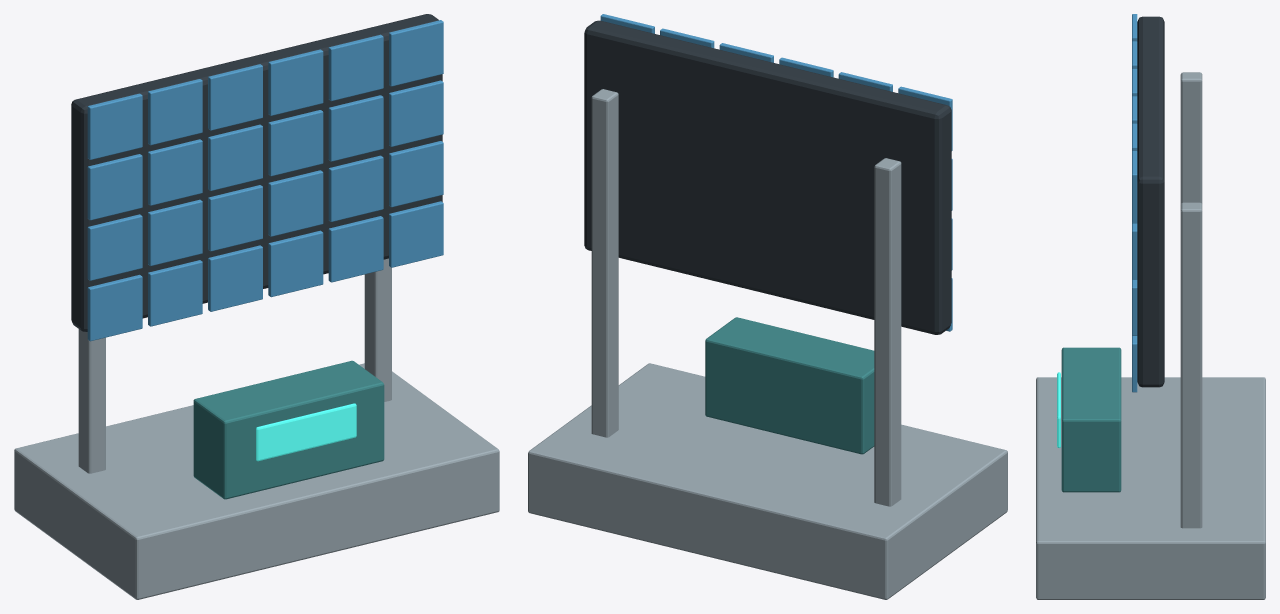
File: solar-rack.glb
The picture shows the model from 3 angles, left to right: view 1: azimuth 30°, elevation 25°; view 2: azimuth 150°, elevation 25°; view 3: azimuth 270°, elevation 25°; orthographic projection. The views are drawn at different scales.
Parts seen in each view (by area): view 1: Rack base, Panel backing, Controller, Post, Controller display, Post.001, Solar cell.001, Solar cell.015, Solar cell.012, Solar cell.013, Solar cell.017, Solar cell.018 (+18 smaller); view 2: Panel backing, Rack base, Controller, Post, Post.001; view 3: Rack base, Panel backing, Controller, Post.001, Post, Solar cell.023, Solar cell.022, Solar cell.020, Solar cell.021.
Part boxes in pixels (box(x1,y1,x2,y2)): Rack base: box(14, 363, 499, 599); Panel backing: box(71, 14, 442, 331); Controller: box(193, 360, 384, 499); Post: box(78, 329, 105, 473); Controller display: box(256, 403, 356, 461); Post.001: box(364, 258, 391, 401); Solar cell.001: box(87, 214, 142, 280); Solar cell.015: box(268, 49, 323, 115); Solar cell.012: box(268, 230, 323, 297); Solar cell.013: box(268, 170, 323, 236); Solar cell.017: box(328, 155, 383, 221); Solar cell.018: box(328, 95, 383, 161); Panel backing: box(584, 20, 951, 334); Rack base: box(528, 363, 1007, 599); Controller: box(705, 317, 874, 454); Post: box(874, 158, 901, 506); Post.001: box(591, 89, 618, 437); Rack base: box(1036, 377, 1265, 599); Panel backing: box(1137, 16, 1164, 387); Controller: box(1061, 347, 1121, 492); Post.001: box(1180, 202, 1202, 528); Post: box(1180, 72, 1202, 204); Solar cell.023: box(1132, 151, 1137, 223); Solar cell.022: box(1132, 223, 1137, 279); Solar cell.020: box(1132, 336, 1137, 392); Solar cell.021: box(1132, 279, 1137, 335).
Size of the model in its own units: 1.45 by 1.73 by 0.85.
